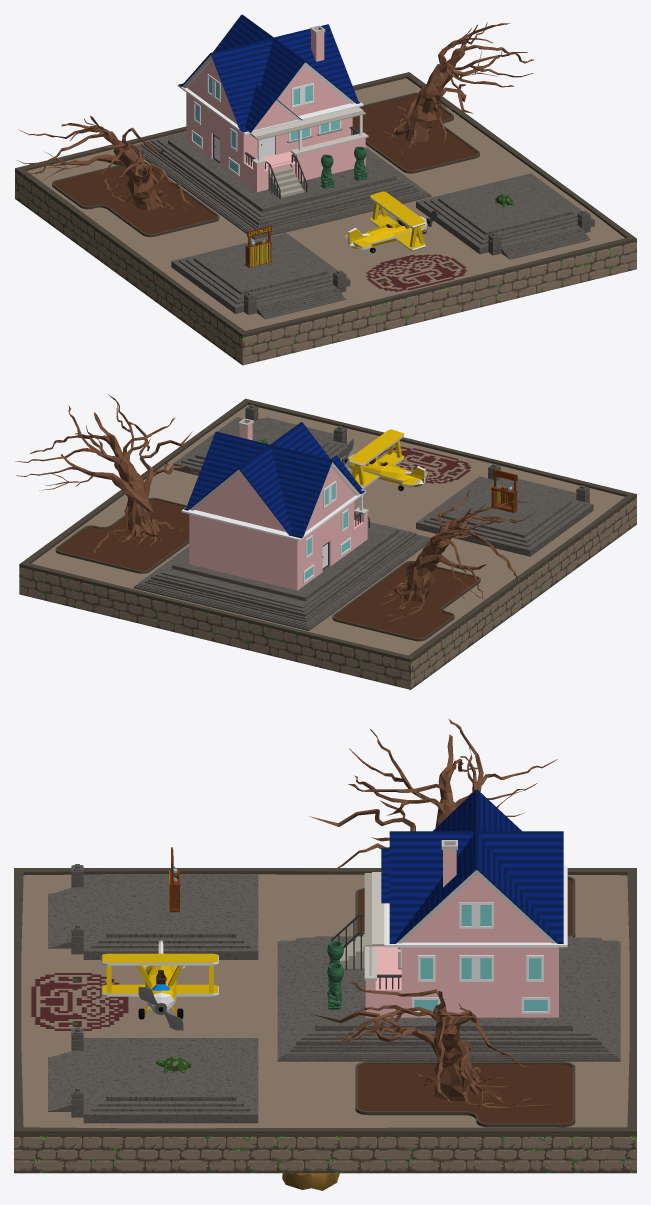
3 renders of one model, top to bottom at view 1: azimuth 30°, elevation 25°; view 2: azimuth 150°, elevation 25°; view 3: azimuth 270°, elevation 25°, orthographic. The views are drawn at different scales.
Parts seen in each view (by area): view 1: Cube.011, Cube.313, VEHICLES_AIRPLANE, OBJRANDOM_LEMONADE_STAND; view 2: Cube.011, Cube.313, VEHICLES_AIRPLANE, OBJRANDOM_LEMONADE_STAND; view 3: Cube.011, Cube.313, VEHICLES_AIRPLANE, UNDERGROUND_T_REX_BONES.
Boxes of the visible parts, bbox=[...] form: Cube.011: bbox=[15, 22, 636, 365]; Cube.313: bbox=[177, 14, 368, 198]; VEHICLES_AIRPLANE: bbox=[345, 191, 437, 253]; OBJRANDOM_LEMONADE_STAND: bbox=[245, 225, 271, 267]; Cube.011: bbox=[15, 394, 636, 689]; Cube.313: bbox=[181, 418, 369, 590]; VEHICLES_AIRPLANE: bbox=[342, 429, 428, 490]; OBJRANDOM_LEMONADE_STAND: bbox=[491, 469, 517, 512]; Cube.011: bbox=[14, 718, 636, 1173]; Cube.313: bbox=[331, 789, 567, 1017]; VEHICLES_AIRPLANE: bbox=[101, 940, 218, 1030]; UNDERGROUND_T_REX_BONES: bbox=[282, 1173, 339, 1190].
Size of the model in its own units: 5099 by 1773 by 4000.
Materials: 45 (5 with a texture image).
